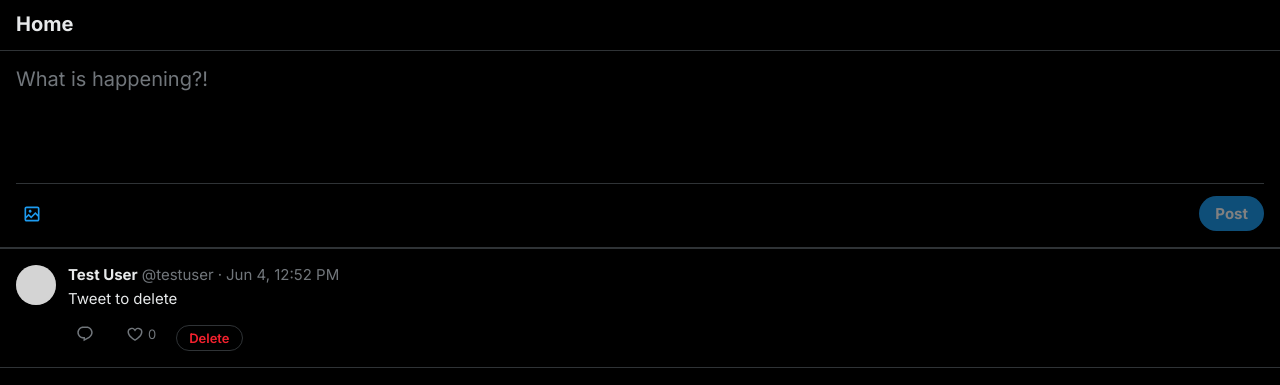
it: Home Tweet Feed › should delete a tweet optimistically when delete is clicked
Expected: the text "Tweet to delete" is shown, [68,289,177,308]
Click the button "Delete": (209, 338) [176,325,242,351]
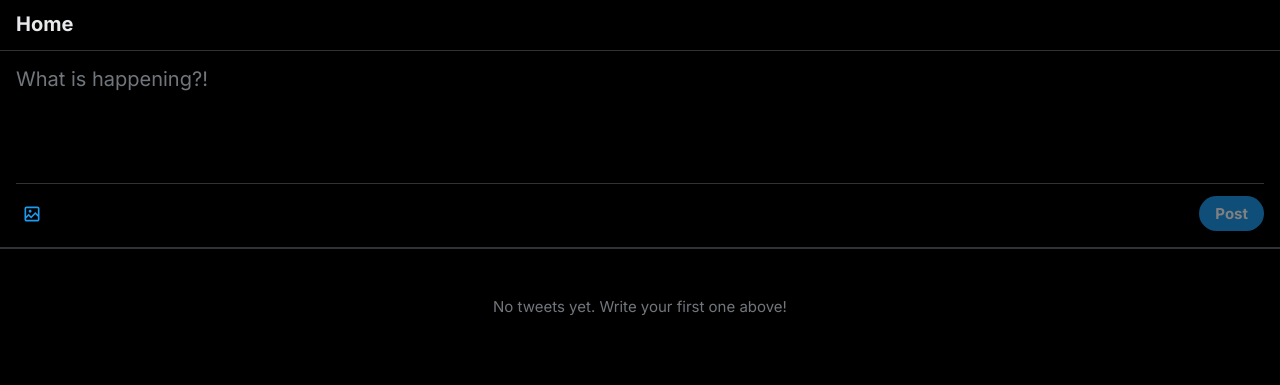
Now the text "Tweet to delete" is gone
